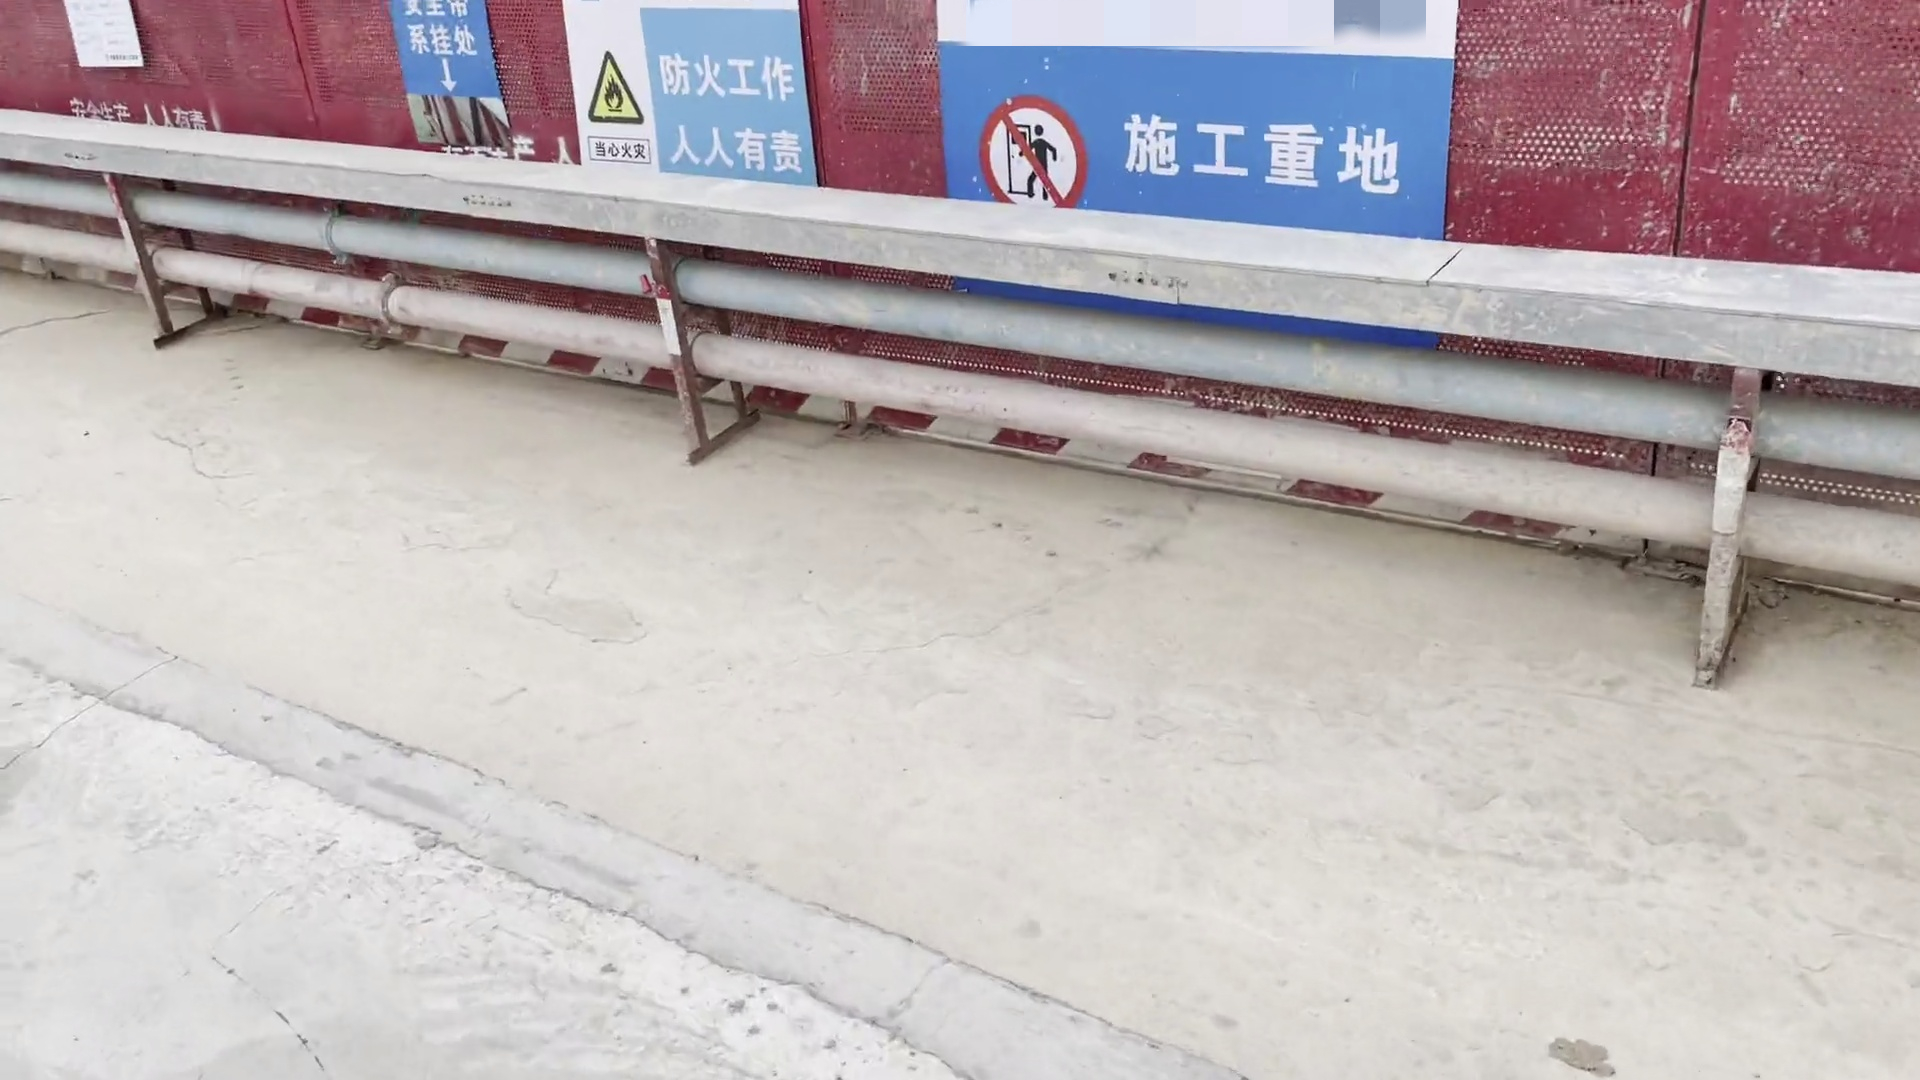fence: (3, 1, 1920, 268)
slogan: (918, 1, 1480, 349), (545, 1, 833, 227), (365, 4, 524, 150), (47, 3, 169, 76)
